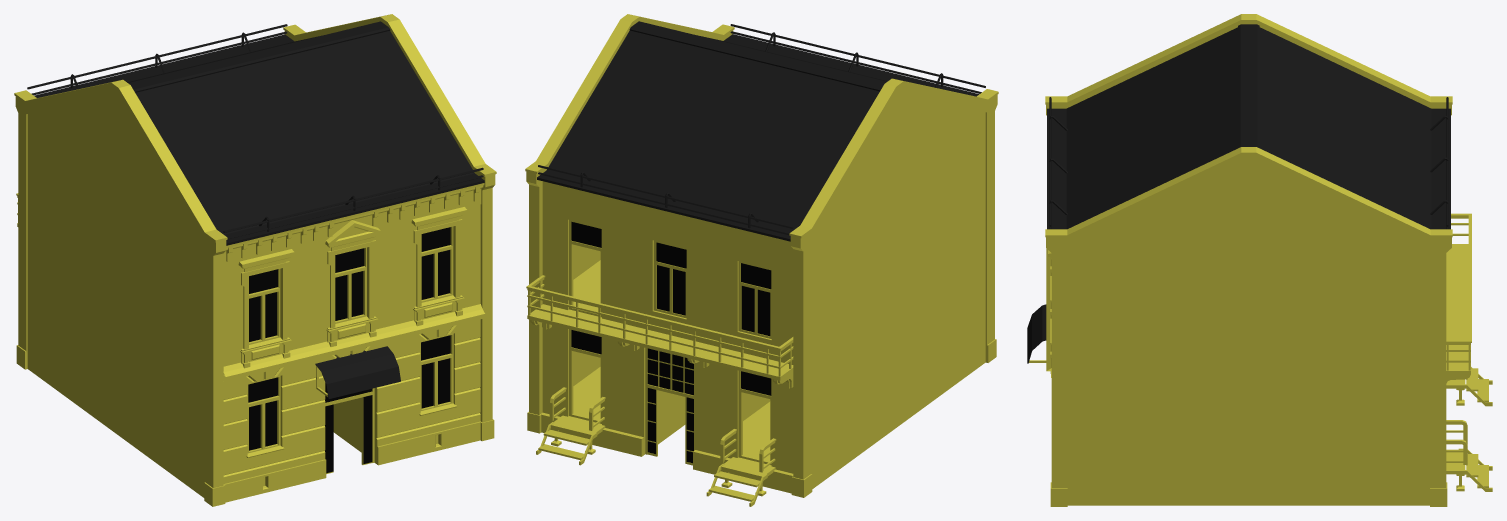
The model's file is SM_sixth_house_1.fbx.
3 renders of one model, left to right at view 1: azimuth 30°, elevation 25°; view 2: azimuth 150°, elevation 25°; view 3: azimuth 270°, elevation 25°, orthographic. The views are drawn at different scales.
Parts seen in each view (by area): view 1: Cylinder_7; view 2: Cylinder_7; view 3: Cylinder_7.
Part boxes in pixels (x1,y1,x2,y2): Cylinder_7: (14,14,496,506); Cylinder_7: (525,14,998,506); Cylinder_7: (1027,14,1492,506).
Size of the model in its own units: 815 by 969 by 1152.
